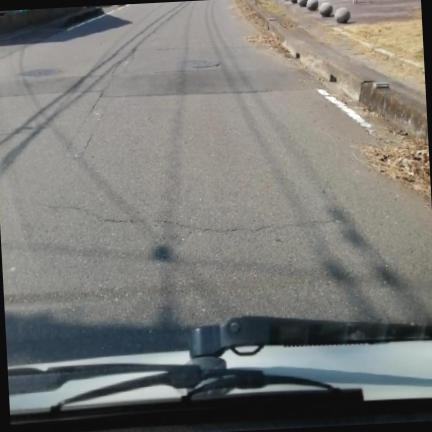Road: (0, 0, 431, 363)
